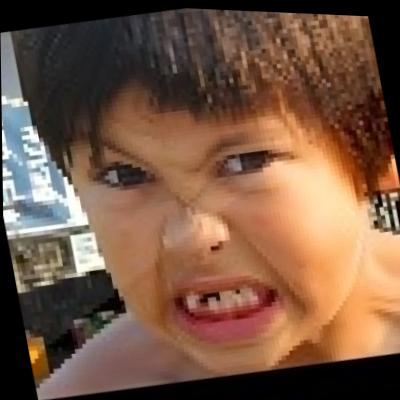angry: (53, 14, 391, 379)
